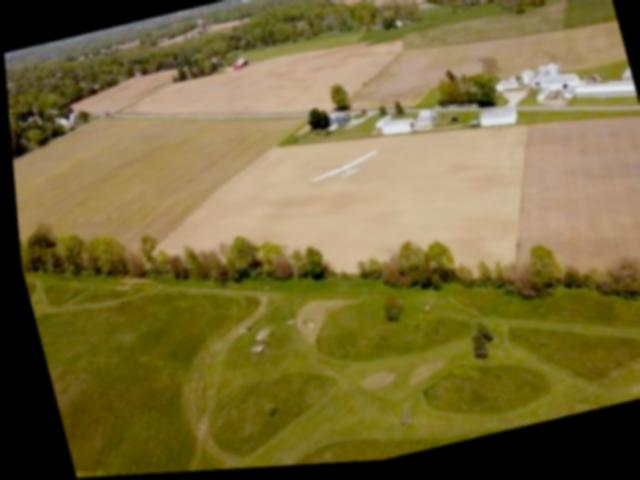uav: (291, 140, 388, 209)
